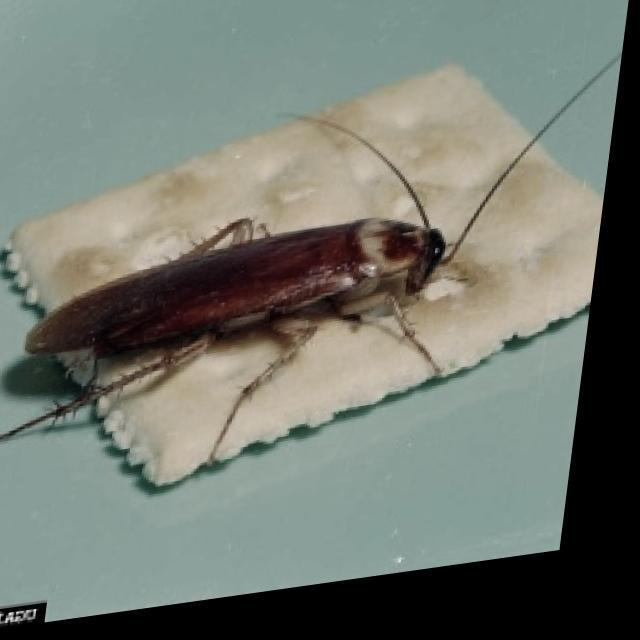cockroach: (17, 147, 520, 458)
